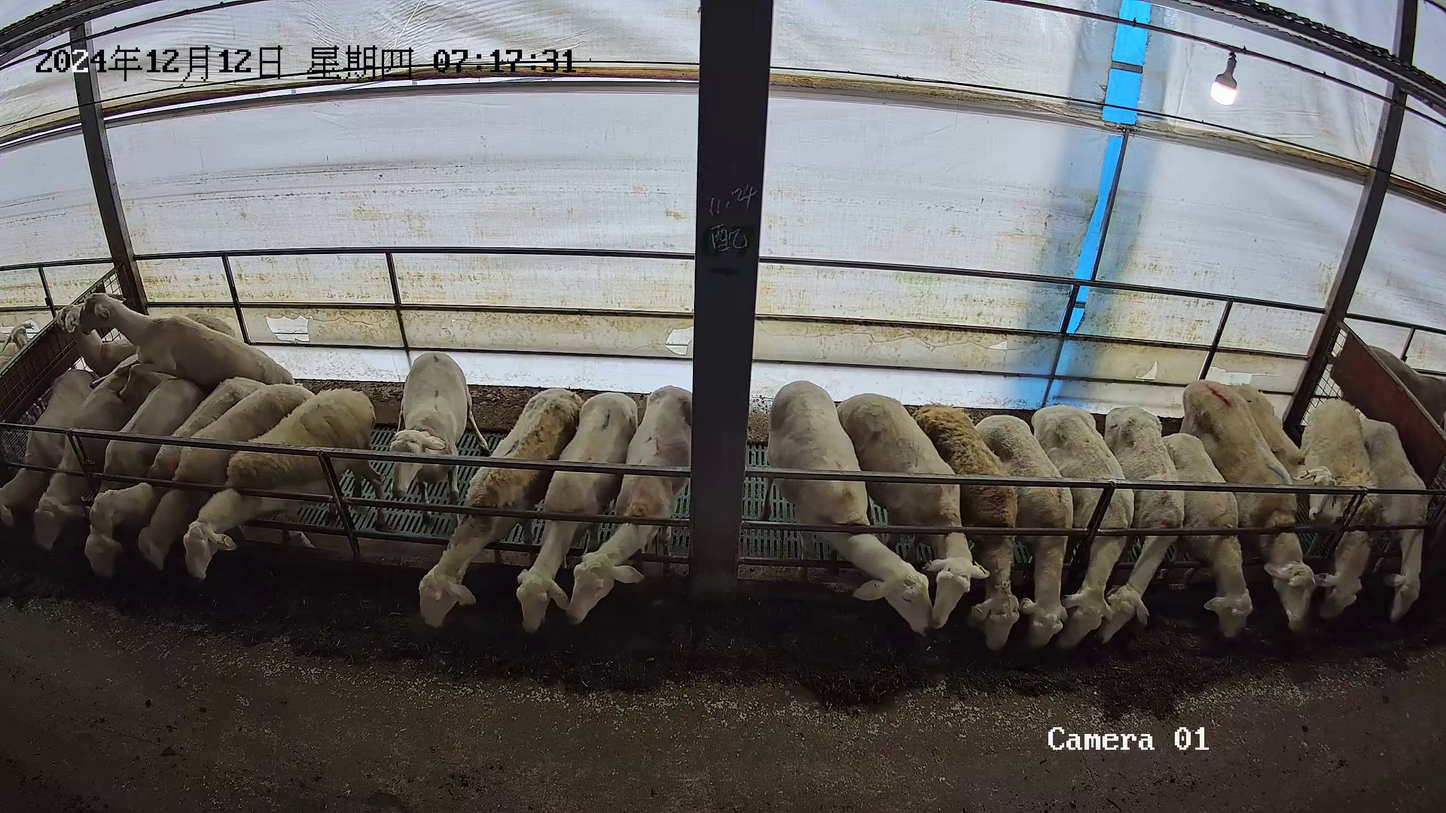Nmounting: (73, 289, 298, 571)
